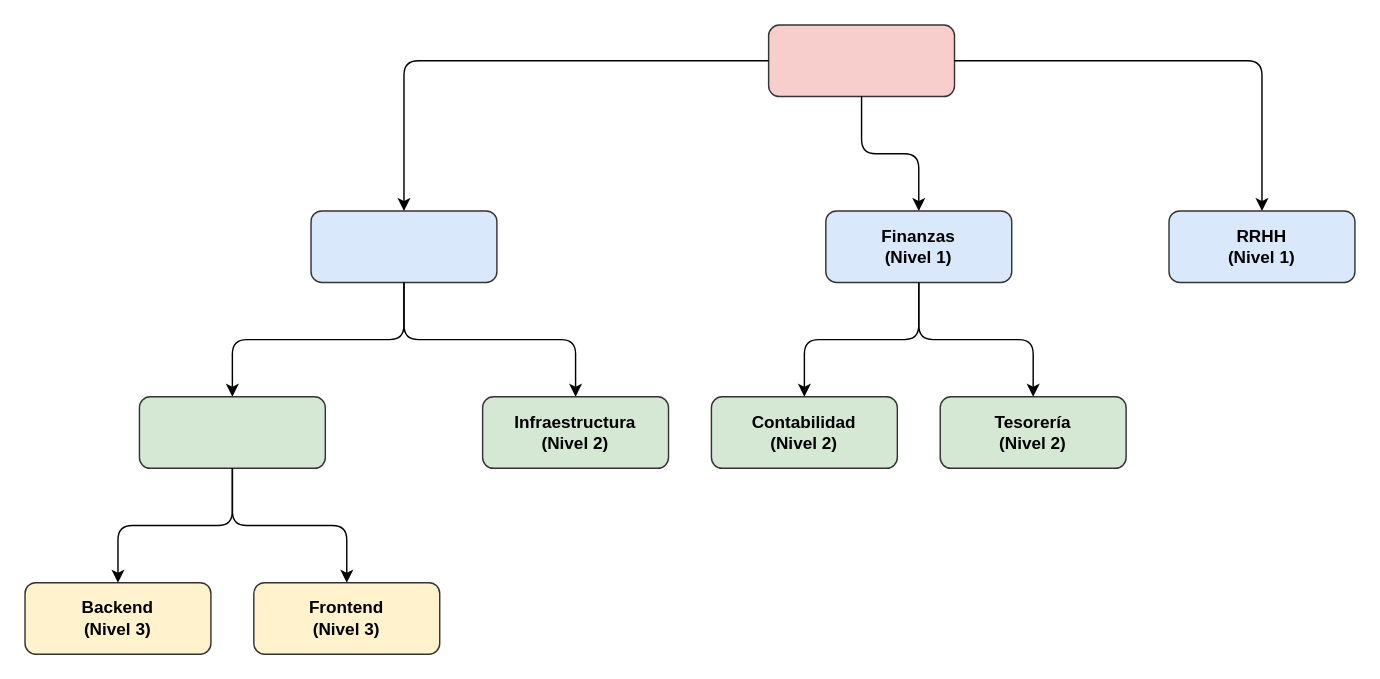
The diagram is 1380 pixels wide and 679 high, and some of its shapes have lost their labels. The shapes that lost their labels are listed below. From the top down, each one's centre as x and y in pixels, then its label:
At (x=861, y=60): "Empresa (Nivel 0)".
At (x=403, y=245): "Tecnología (Nivel 1)".
At (x=231, y=431): "Desarrollo (Nivel 2)".
